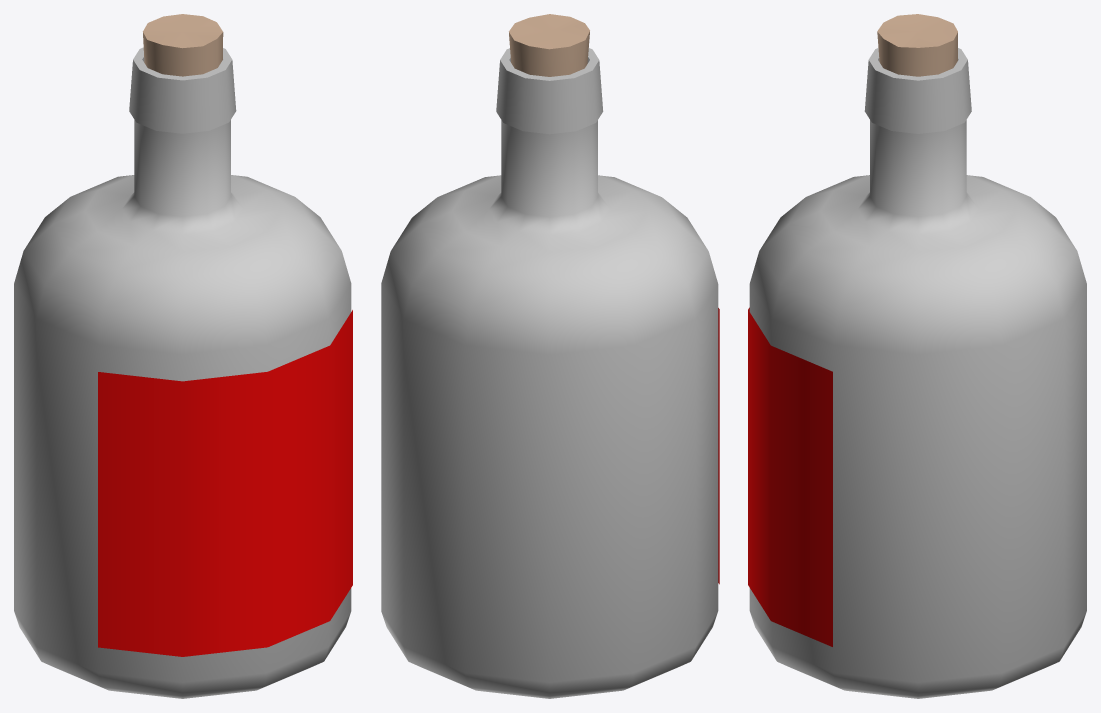
Rendered from Bottle03b.FBX.
3 renders of one model, left to right at view 1: azimuth 30°, elevation 25°; view 2: azimuth 150°, elevation 25°; view 3: azimuth 270°, elevation 25°, orthographic.
Visible parts, largest first — view 1: Bottle03b; view 2: Bottle03b; view 3: Bottle03b.
Boxes of the visible parts, x1=… form: Bottle03b: x1=14, y1=14, x2=352, y2=698; Bottle03b: x1=381, y1=14, x2=719, y2=698; Bottle03b: x1=748, y1=14, x2=1086, y2=698.
Bounding box in the file's own units: 10.6 × 21.15 × 10.65.
